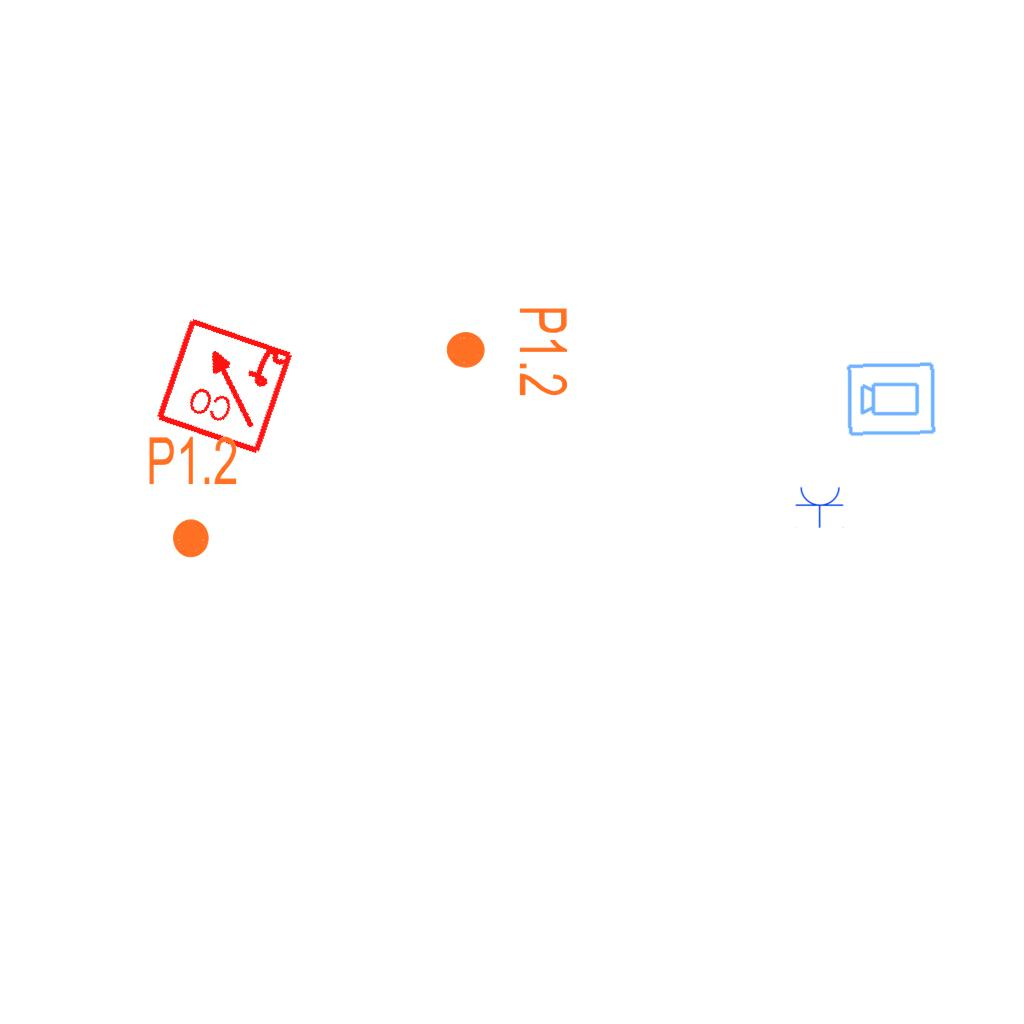Downlight_LED_Einbauleuchten_Flur: (443, 305, 571, 398), (146, 433, 239, 561)
KFO_Kamera_mit_Festobjektiv: (845, 359, 938, 438)
ROA_Rauchmelder_optisch_mit_Signalgeber_(Sockelsirene): (152, 312, 297, 457)
Schukosteckdose_einfach: (795, 485, 845, 528)
